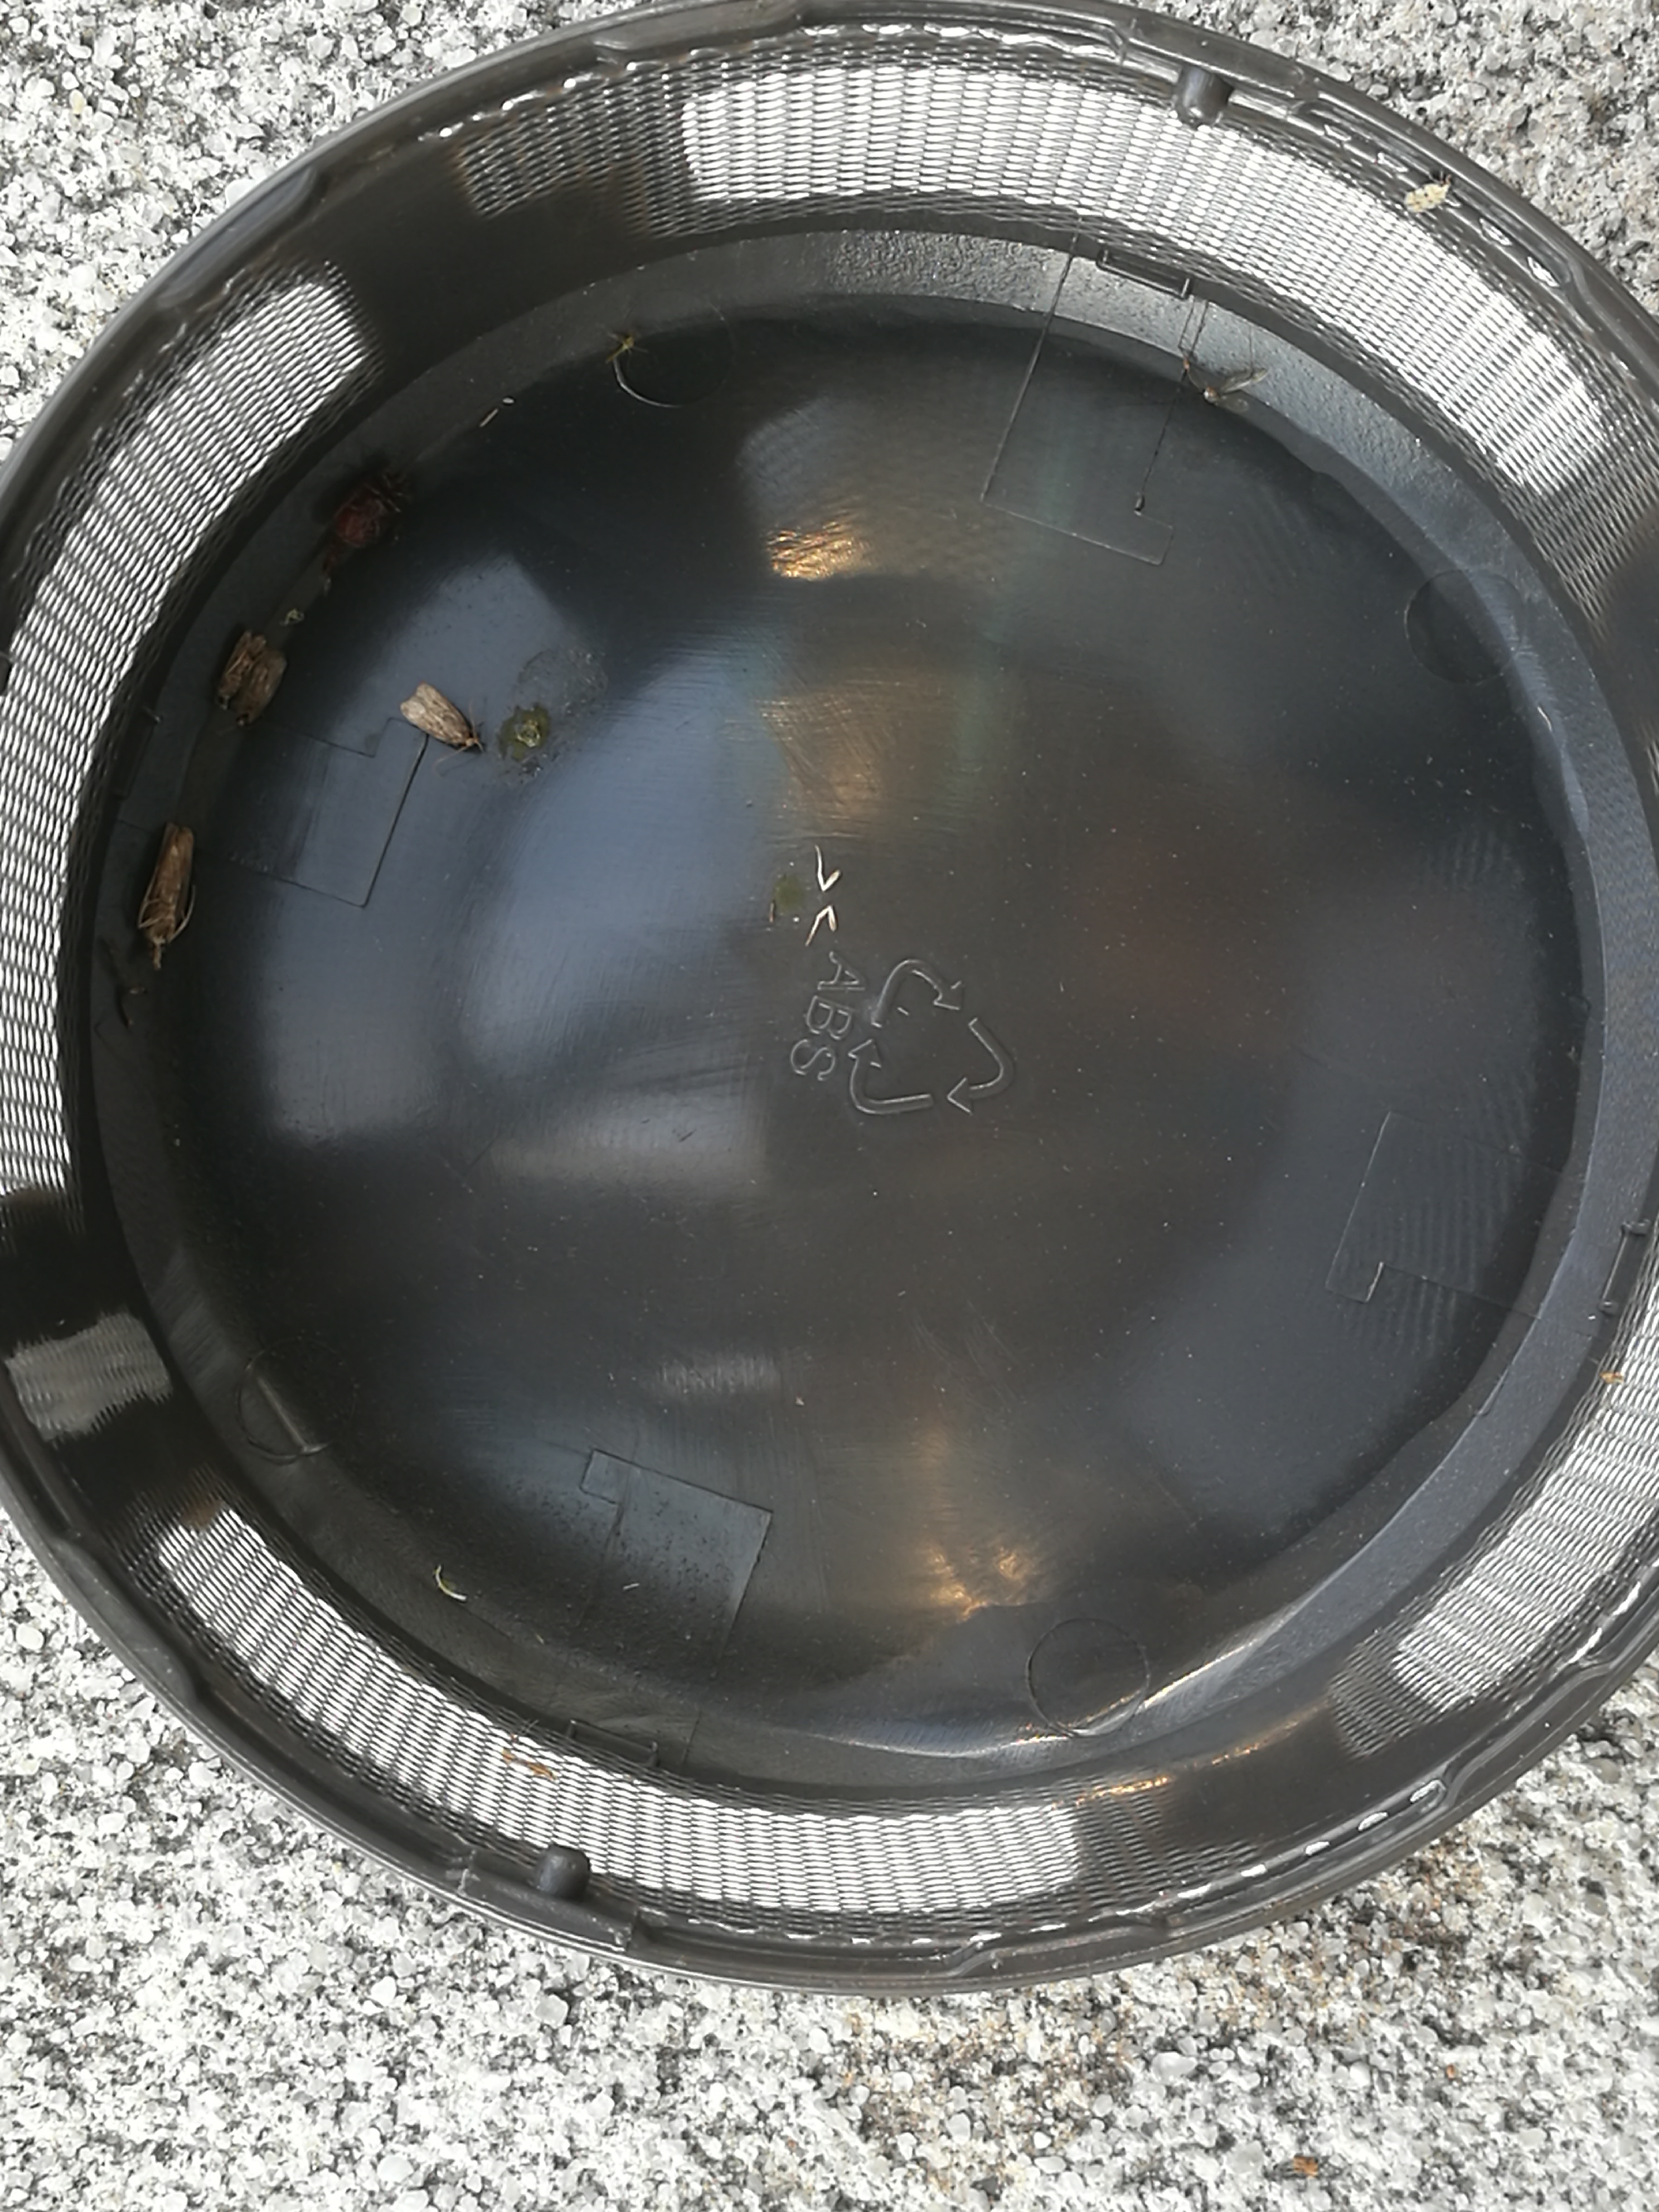beetle: (335, 467, 410, 549)
mosquito: (145, 826, 190, 949), (218, 634, 268, 709), (237, 651, 286, 726)
moth: (401, 681, 474, 747), (1406, 185, 1450, 214)
